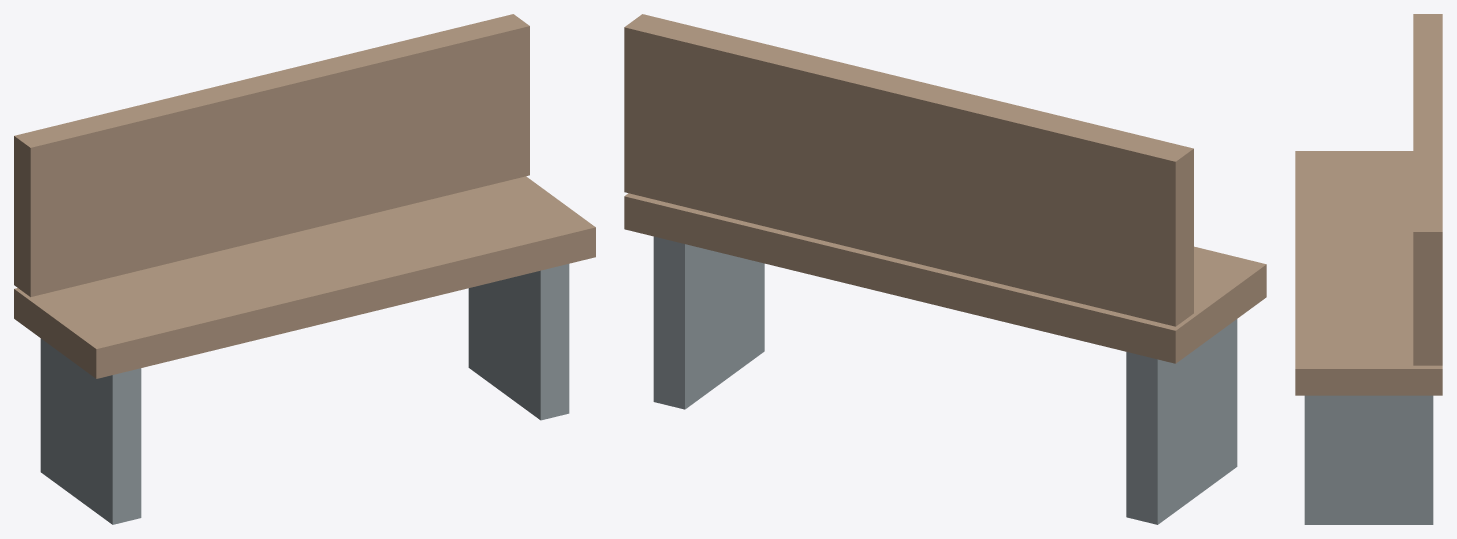
The model's file is park_bench.glb.
3 renders of one model, left to right at view 1: azimuth 30°, elevation 25°; view 2: azimuth 150°, elevation 25°; view 3: azimuth 270°, elevation 25°, orthographic. The views are drawn at different scales.
Parts seen in each view (by area): view 1: p001, p000, p002, p003; view 2: p001, p000, p002, p003; view 3: p000, p003, p001.
Boxes of the visible parts, x1,y1,x2,y2 form: p001: [14, 14, 529, 297]; p000: [14, 176, 595, 378]; p002: [40, 338, 141, 524]; p003: [468, 264, 569, 420]; p001: [624, 14, 1193, 326]; p000: [624, 193, 1266, 363]; p002: [1126, 319, 1237, 524]; p003: [653, 236, 764, 409]; p000: [1295, 151, 1442, 395]; p003: [1304, 395, 1433, 524]; p001: [1413, 14, 1442, 365].
Bounding box in the file's own units: 1.4 × 0.905 × 0.4.
